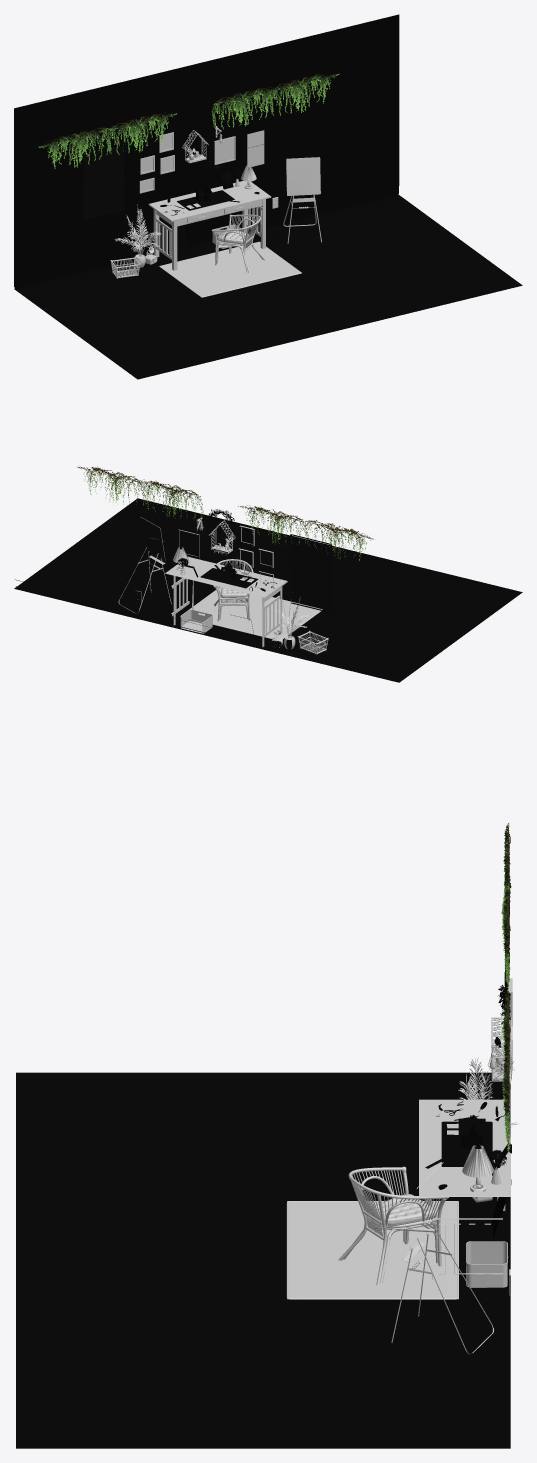
File: Room.glb
3 renders of one model, top to bottom at view 1: azimuth 30°, elevation 25°; view 2: azimuth 150°, elevation 25°; view 3: azimuth 270°, elevation 25°, orthographic. The views are drawn at different scales.
Visible parts, largest first — view 1: Fifth_Background_Baked, Sixth_Plants_Baked, Third_Desk_Baked, Seventh_Large_Stuff_Baked, Second_Photos_Baked, Eighth_Decor_Baked, Fourth_Extras_Baked, Seventh_Chalkboard, First_House_Baked; view 2: Fifth_Background_Baked, Sixth_Plants_Baked, Third_Desk_Baked, Seventh_Large_Stuff_Baked, Eighth_Decor_Baked, Fourth_Extras_Baked, First_House_Baked, Second_Photos_Baked; view 3: Fifth_Background_Baked, Third_Desk_Baked, Seventh_Large_Stuff_Baked, Sixth_Plants_Baked, First_House_Baked, Fourth_Extras_Baked, Eighth_Decor_Baked.
Boxes of the visible parts, <box> form: Fifth_Background_Baked: <box>14,14,522,379</box>; Sixth_Plants_Baked: <box>38,73,339,194</box>; Third_Desk_Baked: <box>148,181,271,273</box>; Seventh_Large_Stuff_Baked: <box>83,126,321,248</box>; Second_Photos_Baked: <box>139,130,264,193</box>; Eighth_Decor_Baked: <box>110,126,256,278</box>; Fourth_Extras_Baked: <box>115,197,300,267</box>; Seventh_Chalkboard: <box>286,157,320,195</box>; First_House_Baked: <box>160,176,239,215</box>; Fifth_Background_Baked: <box>14,498,522,682</box>; Sixth_Plants_Baked: <box>76,466,375,583</box>; Third_Desk_Baked: <box>165,556,287,647</box>; Seventh_Large_Stuff_Baked: <box>118,515,331,633</box>; Eighth_Decor_Baked: <box>173,517,328,654</box>; Fourth_Extras_Baked: <box>130,590,311,649</box>; First_House_Baked: <box>200,563,276,591</box>; Second_Photos_Baked: <box>152,525,273,586</box>; Fifth_Background_Baked: <box>16,1072,510,1448</box>; Third_Desk_Baked: <box>338,1099,510,1285</box>; Seventh_Large_Stuff_Baked: <box>391,903,509,1354</box>; Sixth_Plants_Baked: <box>438,823,513,1189</box>; First_House_Baked: <box>425,1100,498,1168</box>; Fourth_Extras_Baked: <box>436,1058,519,1343</box>; Eighth_Decor_Baked: <box>462,1013,514,1202</box>.
Bounding box in the file's own units: 104 × 46.6 × 58.82.
